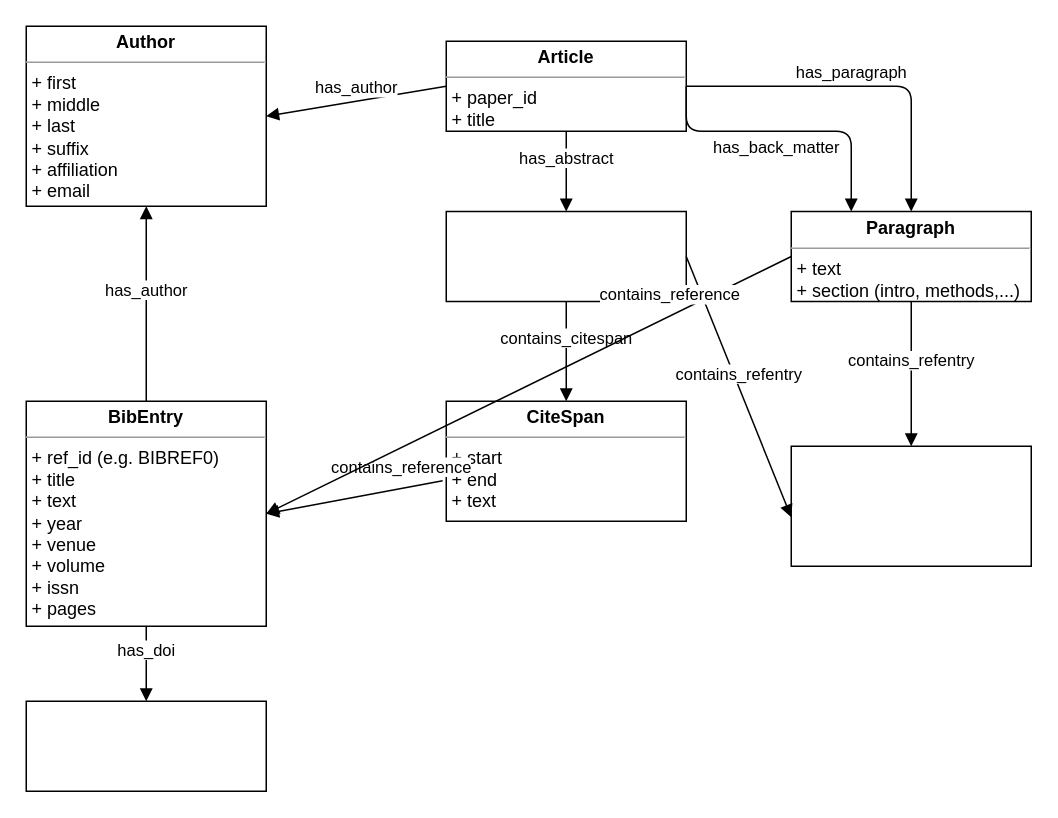
This 1058x818 diagram has some shape labels left out. The shapes that lost their labels are listed below. From the top down, each one's centre as x and y in pixels, then its label:
At point 565,256: "Abstract + text + section".
At point 910,505: "RefEntry + ref_id (e.g. FIGREF0) + text + type (figs, tables, eqs)".
At point 145,745: "DOI + doi".
